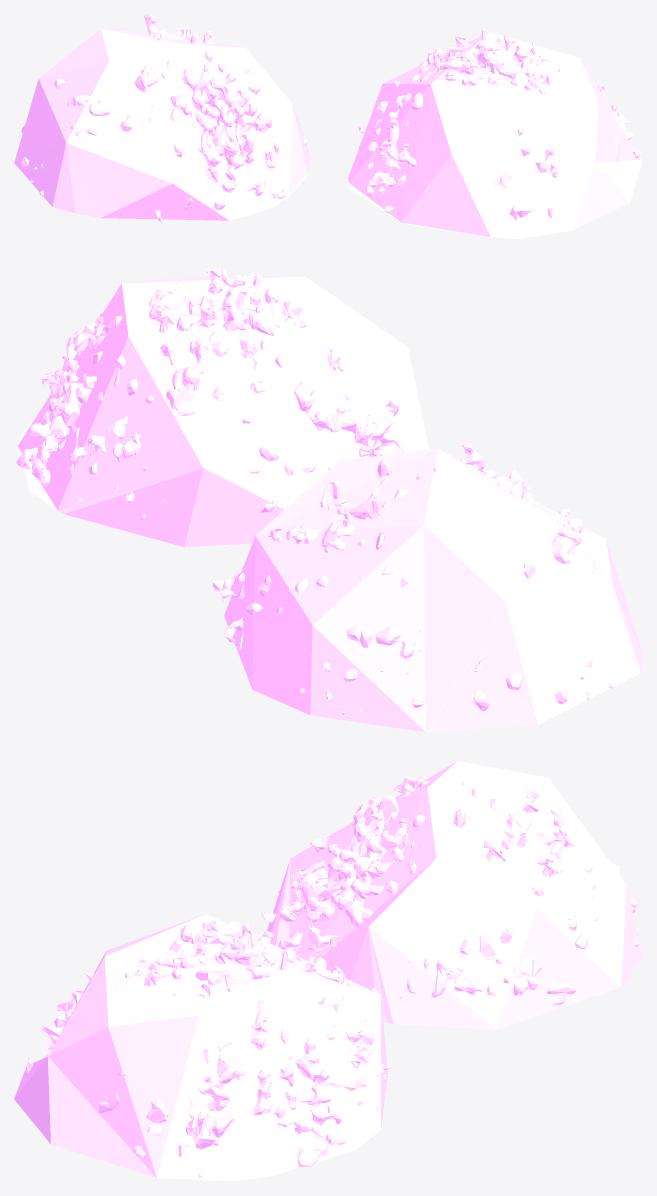
Rendered from snr-tycho.glb.
3 views of the same model, one above another, from view 1: azimuth 30°, elevation 25°; view 2: azimuth 150°, elevation 25°; view 3: azimuth 270°, elevation 25° (orthographic). The views are drawn at different scales.
Visible parts, largest first — view 1: Tycho Supernova Remnant (right outer).stl; view 2: Tycho Supernova Remnant (right outer).stl; view 3: Tycho Supernova Remnant (right outer).stl.
Boxes of the visible parts, <box> form: Tycho Supernova Remnant (right outer).stl: <box>14,14,642,239</box>; Tycho Supernova Remnant (right outer).stl: <box>16,268,642,732</box>; Tycho Supernova Remnant (right outer).stl: <box>14,761,642,1181</box>.
Size of the model in its own units: 168 by 40.78 by 141.
